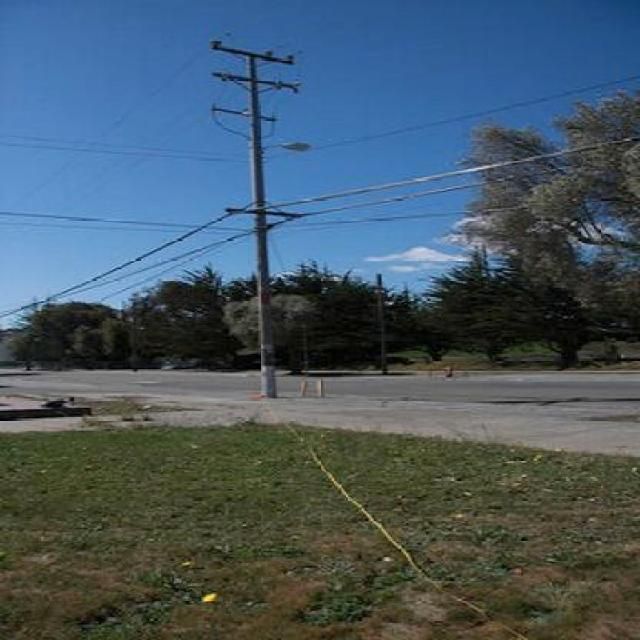crossarm: (213, 71, 303, 91), (214, 42, 295, 64), (213, 105, 278, 123), (228, 208, 304, 218)
pole: (248, 54, 275, 400)
wire: (263, 74, 640, 159), (0, 202, 254, 319), (266, 135, 640, 210), (46, 228, 255, 304), (305, 167, 568, 217), (96, 242, 229, 303), (0, 212, 256, 231), (273, 213, 471, 227)
